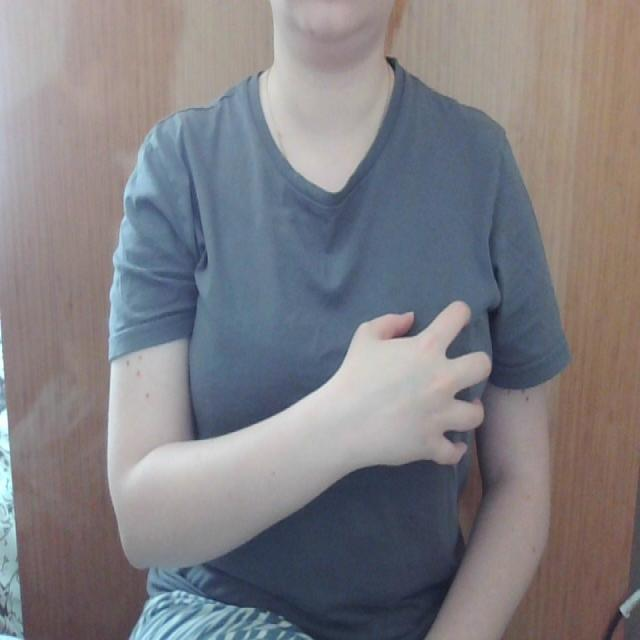Anne: (171, 290, 525, 469)
